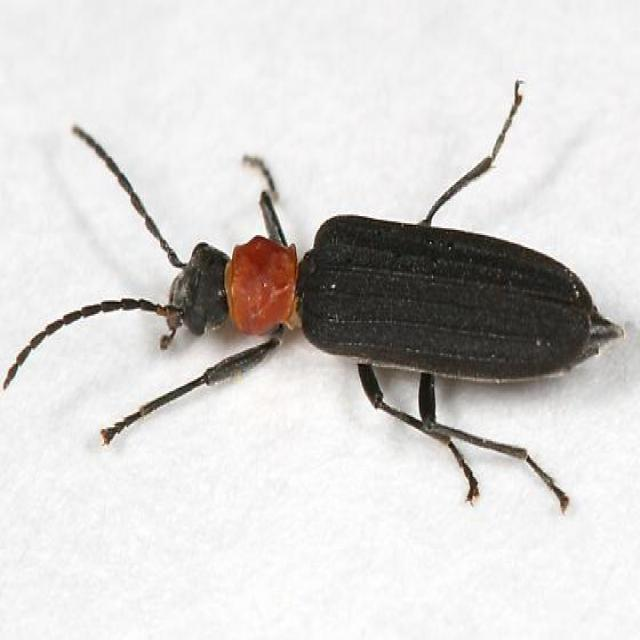BlisterBeetle-Adult-: (5, 118, 622, 517)
